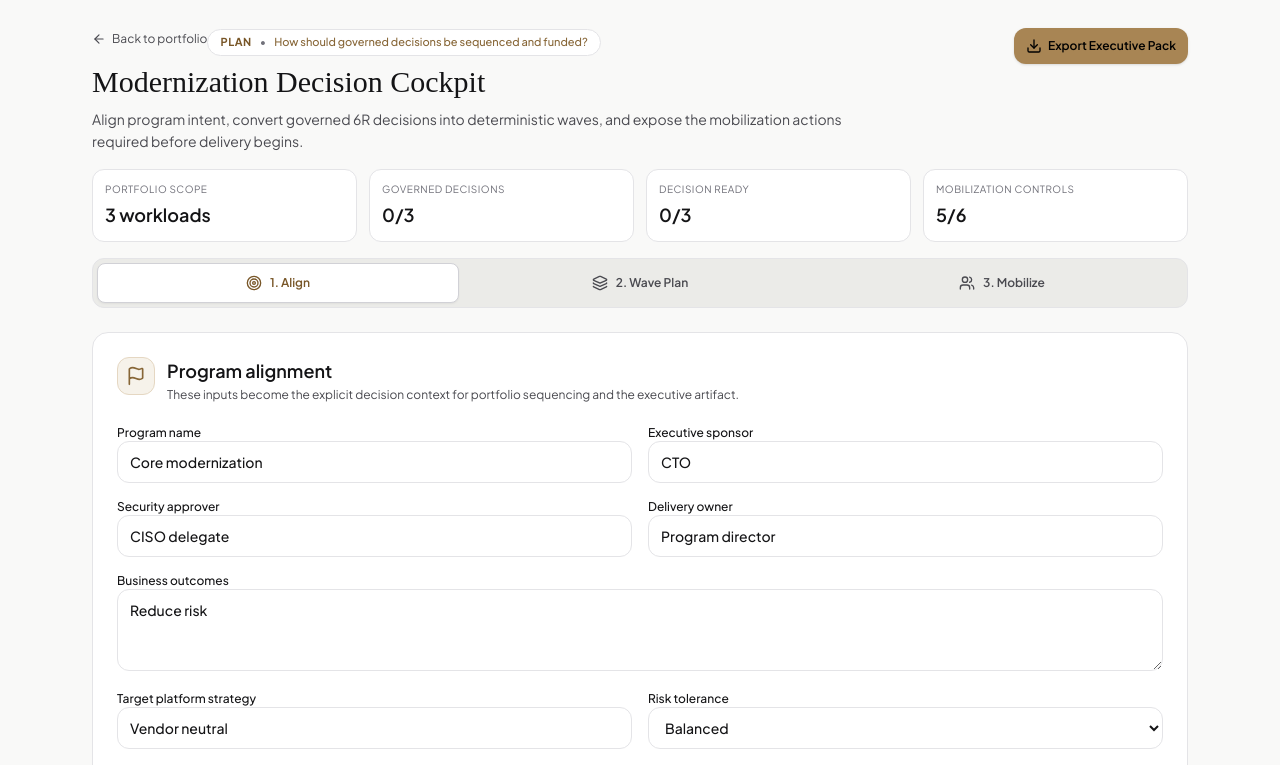
Test: safe assessment rendering › renders alignment, deterministic waves, and mobilization readiness
Check: the heading "Modernization Decision Cockpit" is shown, box [92, 64, 485, 98]
What coordinates should you click on to do the following:
click the button "2. Wave Plan"
I would click on:
 (640, 283)
Its box is [459, 263, 821, 303].
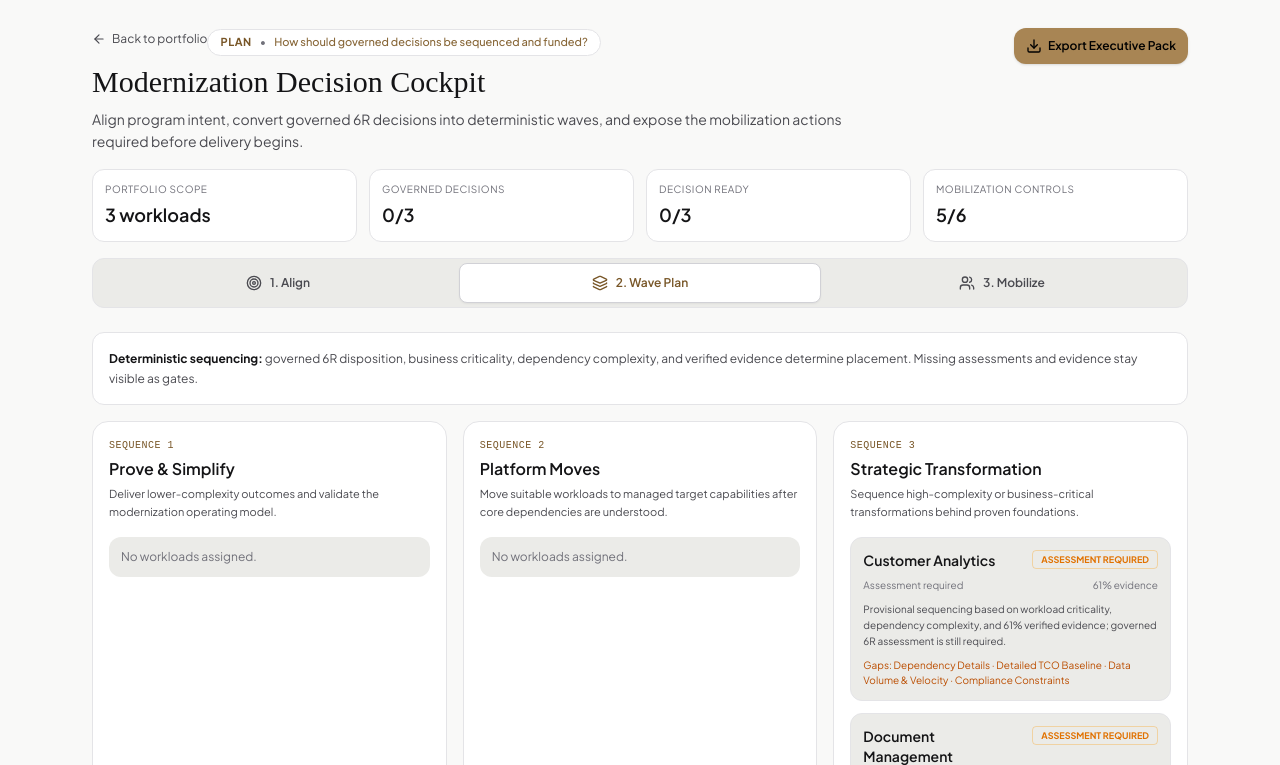
Check: the text "Deterministic sequencing:" is shown, box [109, 351, 263, 366]
Check: the text "ASSESSMENT REQUIRED" is shown 3 times
What coordinates should you click on to do the following:
click the button "3. Mobilize"
I would click on:
 (1002, 283)
Its box is [821, 263, 1183, 303].
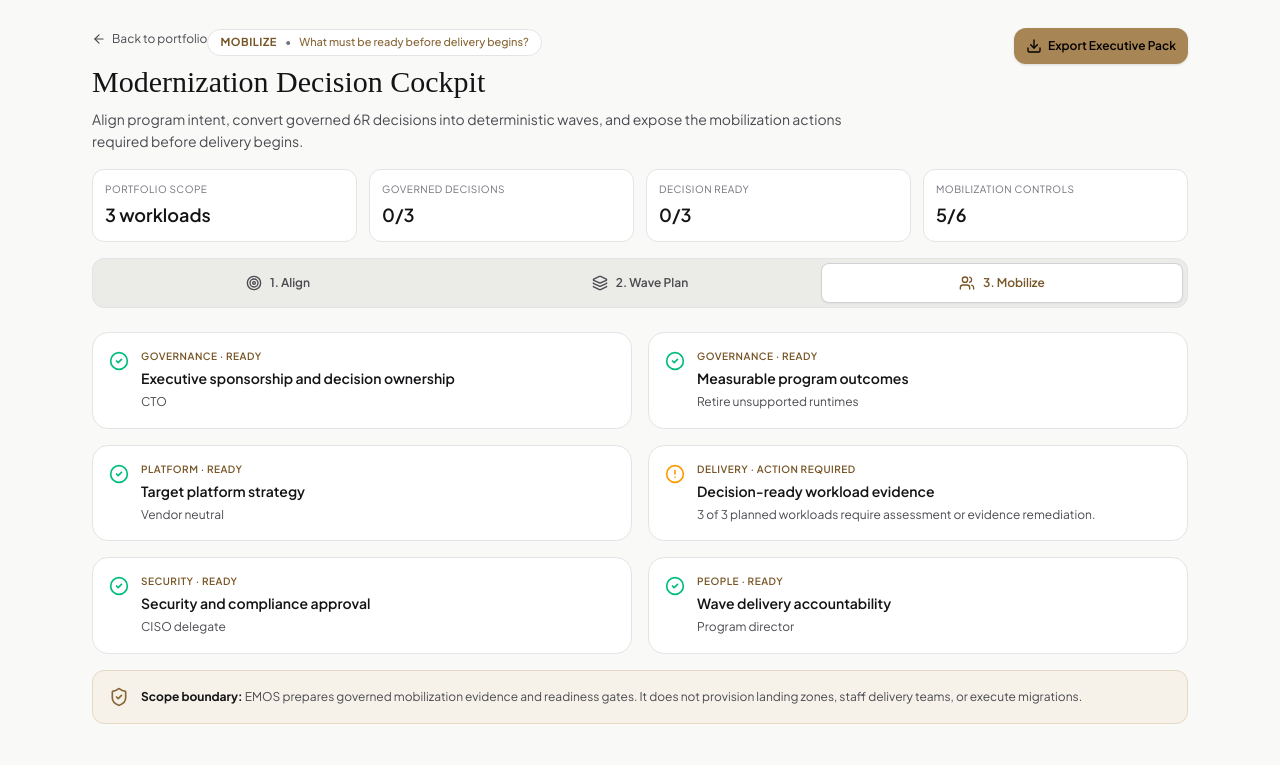
Check: the heading "Wave delivery accountability" is shown, box [697, 593, 891, 613]
